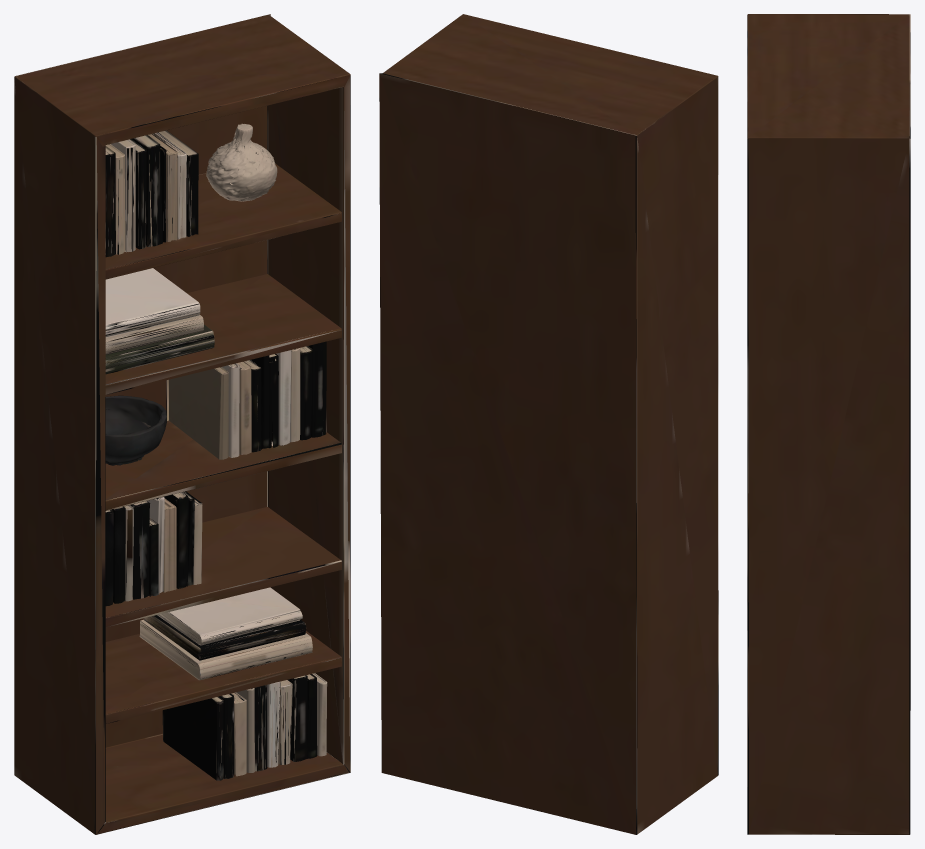
The model's file is desktop.glb.
The picture shows the model from 3 angles, left to right: view 1: azimuth 30°, elevation 25°; view 2: azimuth 150°, elevation 25°; view 3: azimuth 270°, elevation 25°; orthographic projection.
Parts seen in each view (by area): view 1: bookshelf; view 2: bookshelf; view 3: bookshelf.
Part boxes in pixels (x1=…): bookshelf: x1=14, y1=14, x2=350, y2=834; bookshelf: x1=379, y1=14, x2=718, y2=834; bookshelf: x1=747, y1=14, x2=910, y2=834.
Bounding box in the file's own units: 0.7314 × 1.9 × 0.4033.
Materials: 1 (1 with a texture image).
